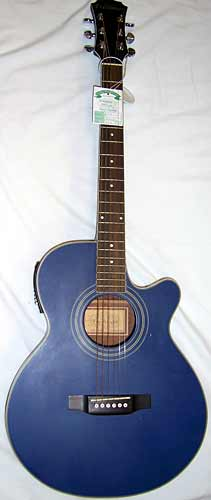guitar: (5, 1, 207, 498)
